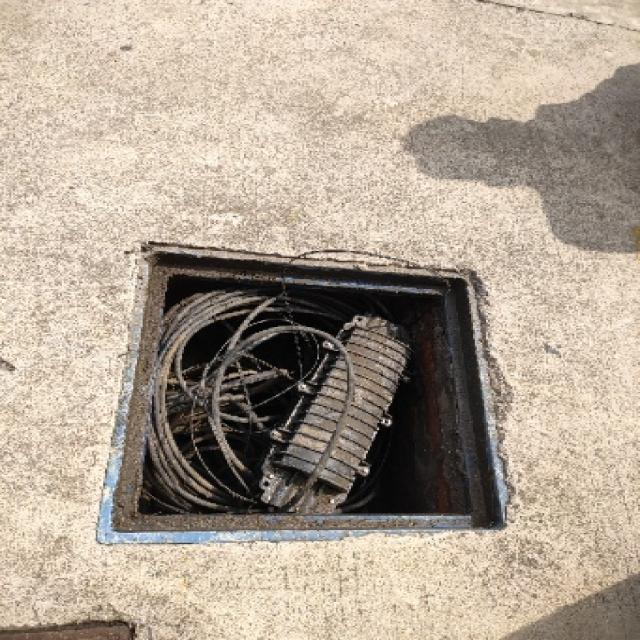Uncovered: (101, 224, 538, 575)
